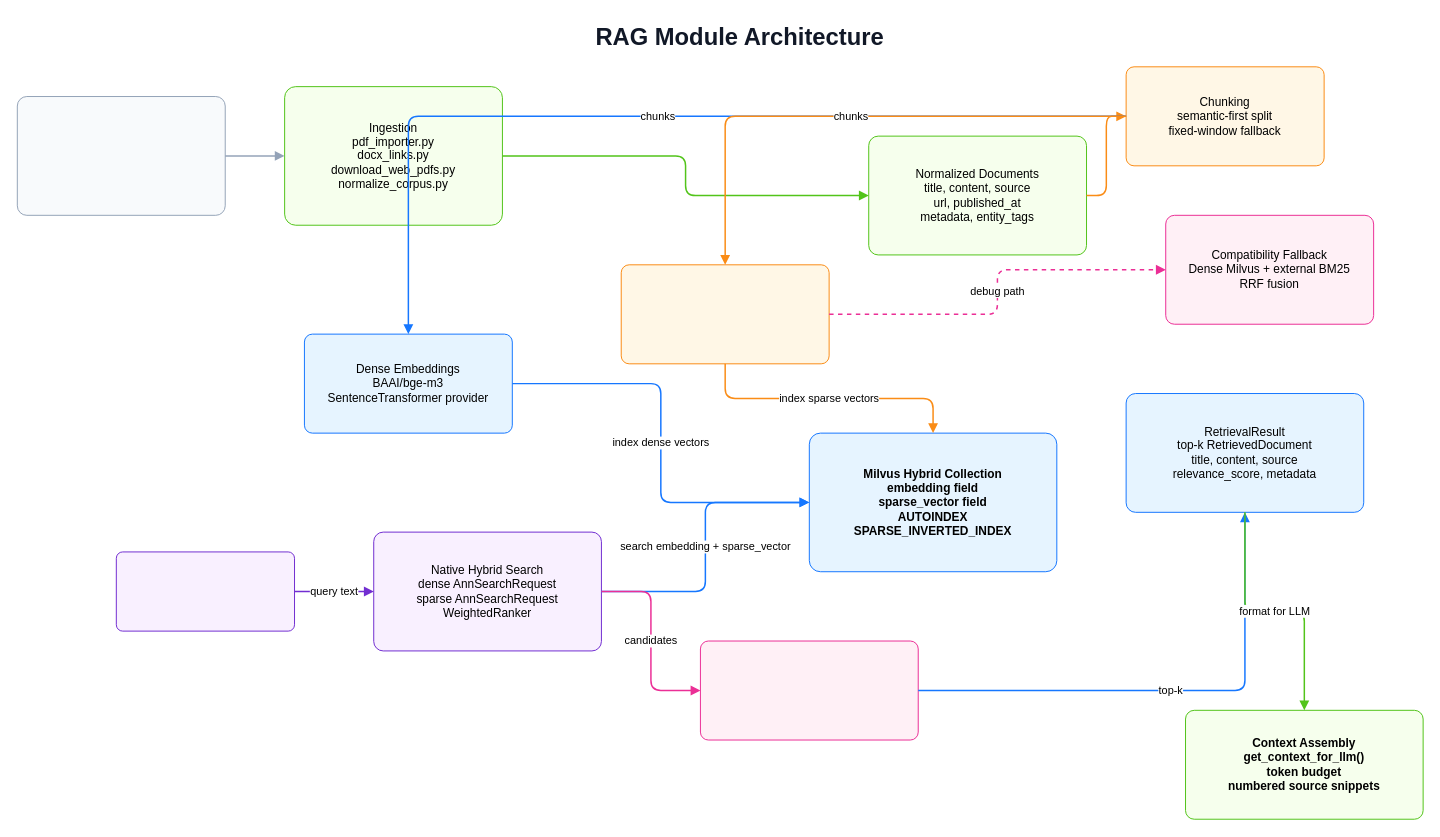
Image size: 1440x837. Some labels were removed from this diagram. Here are the shapes that lost their labels. From the top down, the centre of each, then its label:
the point at 120,155: Raw Corpus PDF reports regulatory documents protocol papers web-downloaded PDFs
the point at 724,314: Sparse Retrieval Data BM25 index sparse_vector_for_text()
the point at 205,591: User Query from Chatbot
the point at 808,690: Reranking LexicalReranker default CrossEncoder optional
